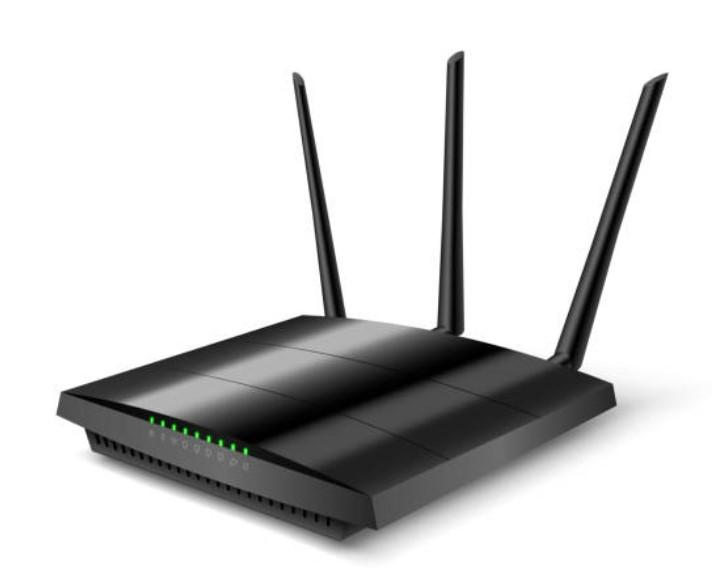Router: (58, 51, 668, 540)
